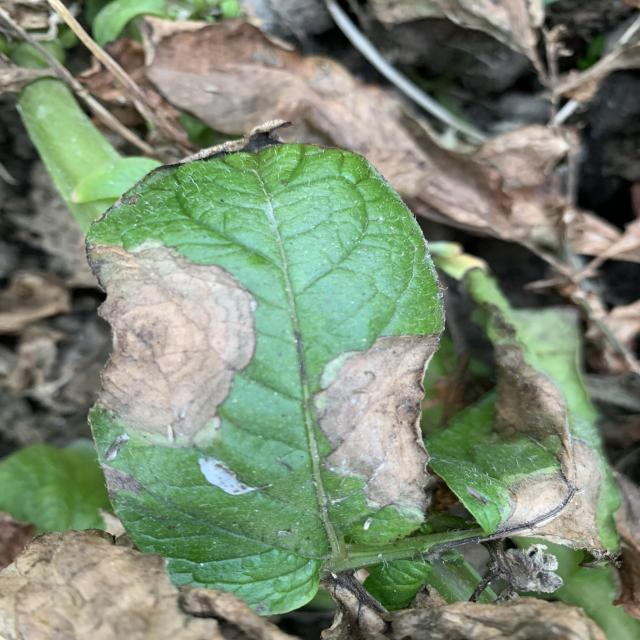lateblight: (90, 244, 257, 446), (315, 335, 438, 501), (490, 456, 620, 558), (495, 344, 572, 451)
